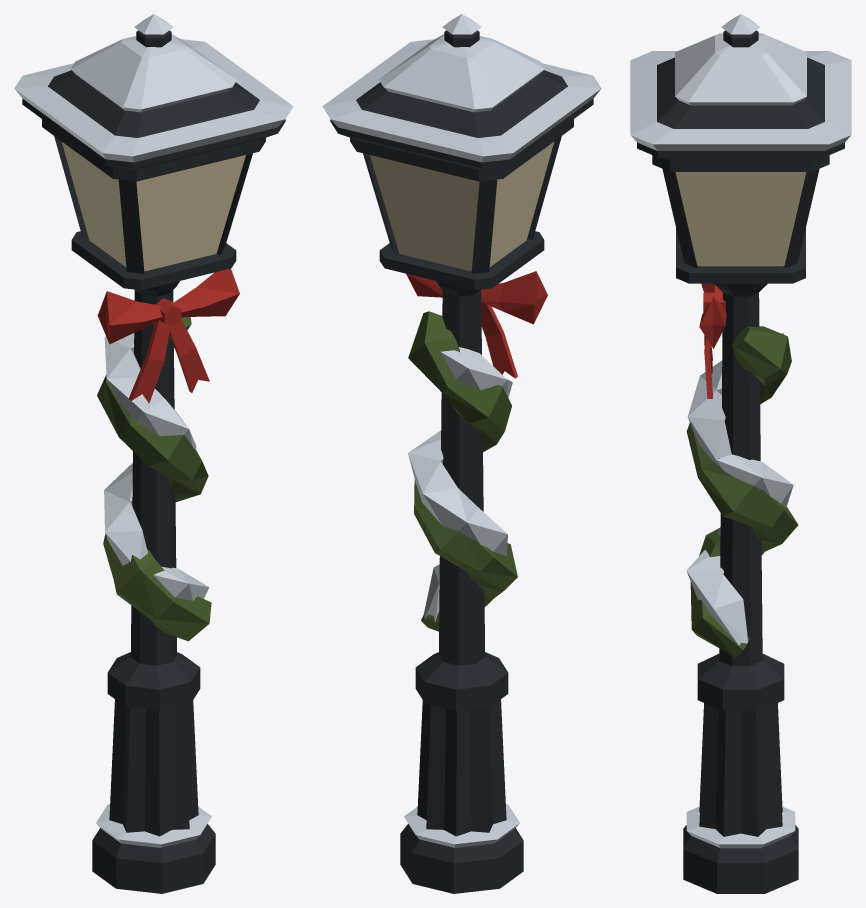
File: garland-lamp-post-af02f0.glb
3 views of the same model, side by side, from view 1: azimuth 30°, elevation 25°; view 2: azimuth 150°, elevation 25°; view 3: azimuth 270°, elevation 25° (orthographic).
Parts seen in each view (by area): view 1: lamp-post, bow-tails-mesh; view 2: lamp-post, bow-tails-mesh; view 3: lamp-post.
Part boxes in pixels (bbox=[...]): lamp-post: bbox=[14, 14, 293, 893]; bow-tails-mesh: bbox=[128, 319, 209, 403]; lamp-post: bbox=[322, 14, 601, 893]; bow-tails-mesh: bbox=[481, 302, 517, 378]; lamp-post: bbox=[630, 14, 851, 893].
Size of the model in its own units: 0.8489 by 3.63 by 0.8489.
